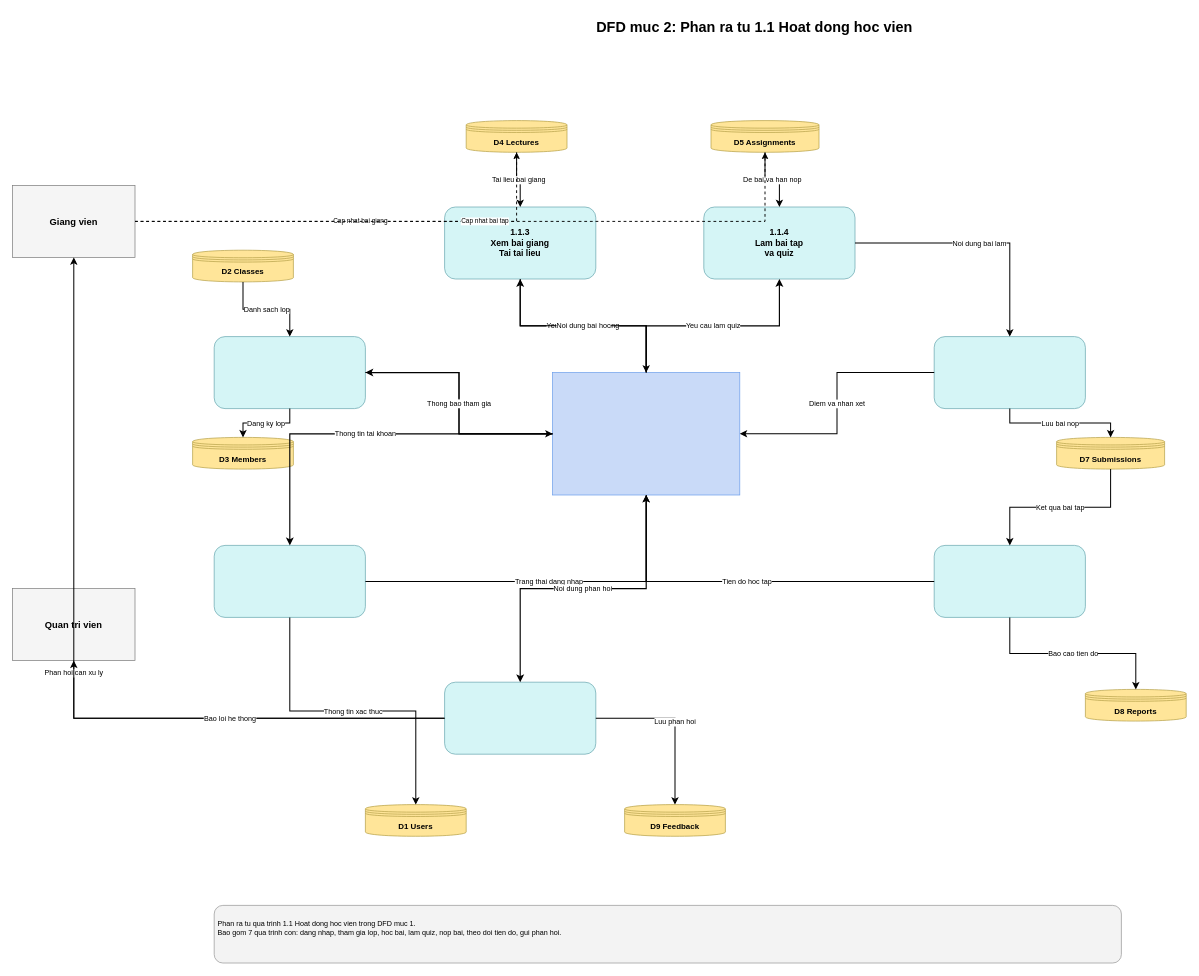
This 1199x976 diagram has some shape labels left out. The box of each missing label's shape, as (x1, y1, x2, y2) in pixels:
1.1.1 Dang ky Dang nhap: (213, 545, 365, 617)
1.1.2 Tim kiem va tham gia lop: (213, 336, 365, 409)
1.1.5 Nop bai va xem ket qua: (933, 336, 1085, 409)
1.1.6 Theo doi tien do hoc tap: (933, 545, 1085, 617)
1.1.7 Gui phan hoi Bao loi: (444, 681, 596, 754)
Hoc vien: (552, 372, 740, 495)
